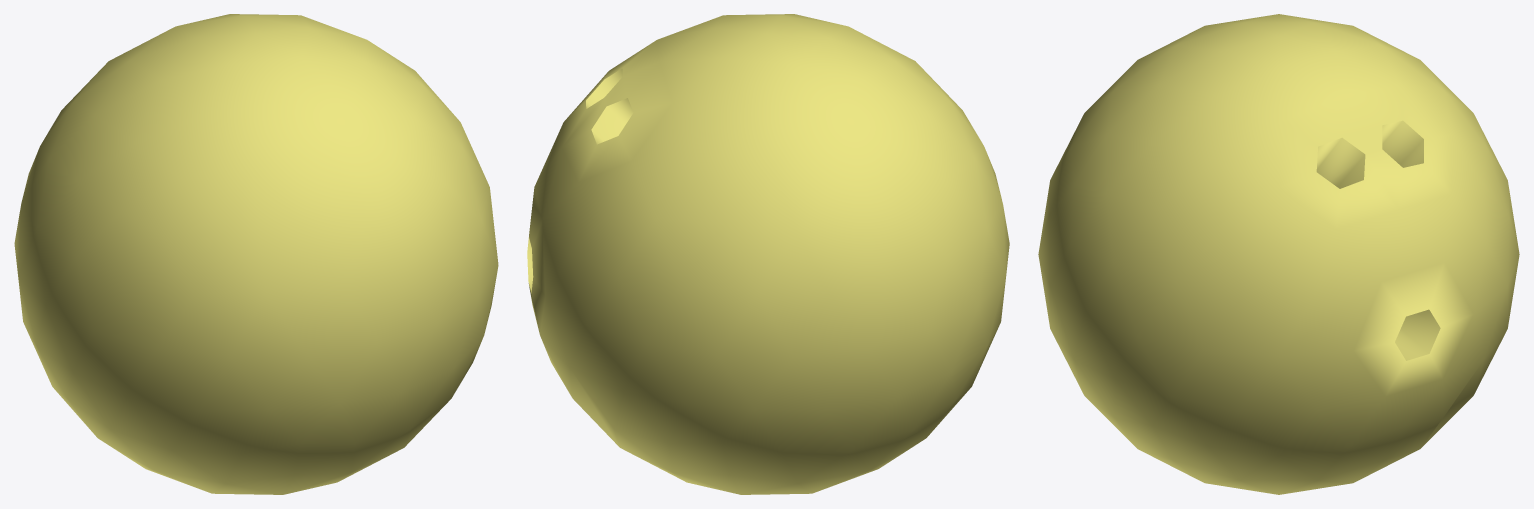
Rendered from Balle_bowling.fbx.
3 renders of one model, left to right at view 1: azimuth 30°, elevation 25°; view 2: azimuth 150°, elevation 25°; view 3: azimuth 270°, elevation 25°, orthographic.
Parts seen in each view (by area): view 1: Icosphere; view 2: Icosphere; view 3: Icosphere.
Boxes of the visible parts, x1,y1,x2,y2 form: Icosphere: (14,14,498,494); Icosphere: (527,14,1009,494); Icosphere: (1038,14,1519,494).
Bounding box in the file's own units: 45 × 45 × 45.
